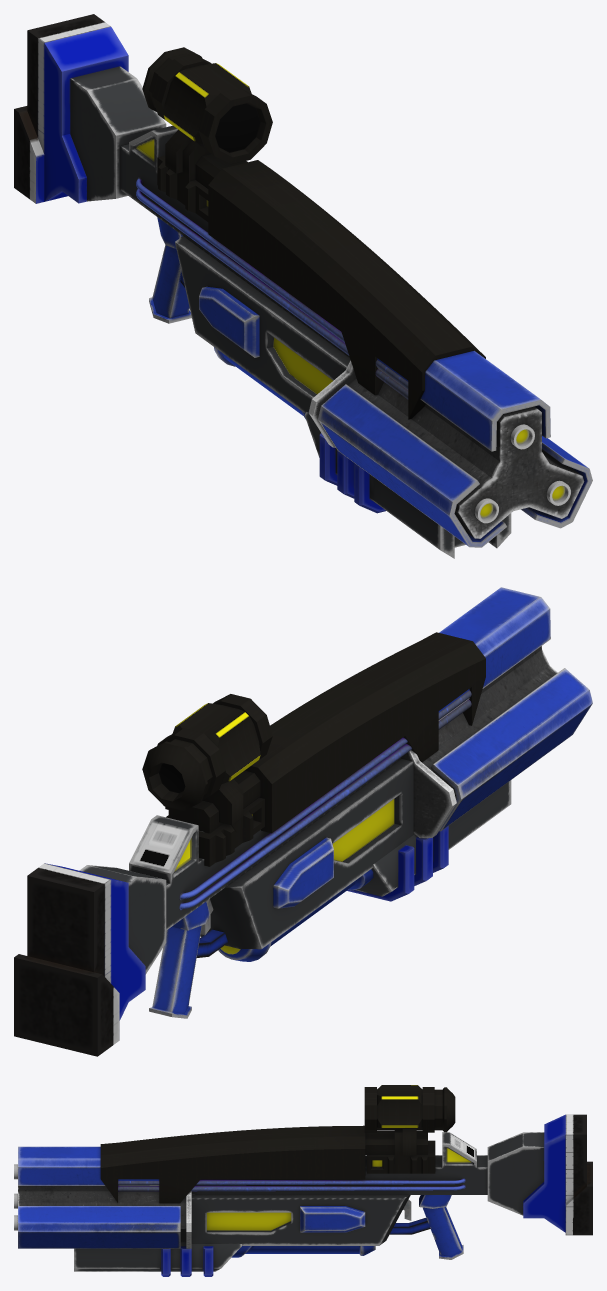
The model's file is Sci-Fi Gun.Fbx.
3 renders of one model, top to bottom at view 1: azimuth 30°, elevation 25°; view 2: azimuth 150°, elevation 25°; view 3: azimuth 270°, elevation 25°, orthographic. The views are drawn at different scales.
Parts seen in each view (by area): view 1: polySurface46; view 2: polySurface46; view 3: polySurface46.
Part boxes in pixels (<box>): polySurface46: <box>14,14,592,558</box>; polySurface46: <box>14,587,592,1056</box>; polySurface46: <box>14,1085,592,1276</box>.
Size of the model in its own units: 344 by 662 by 1942.
